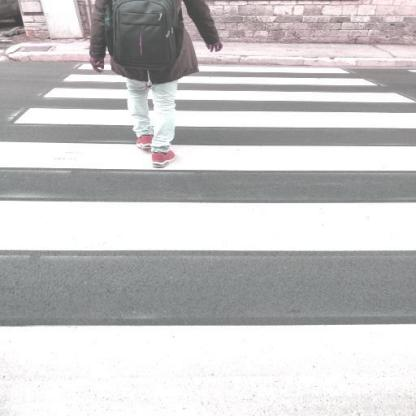crosswalk: (1, 85, 416, 134)
